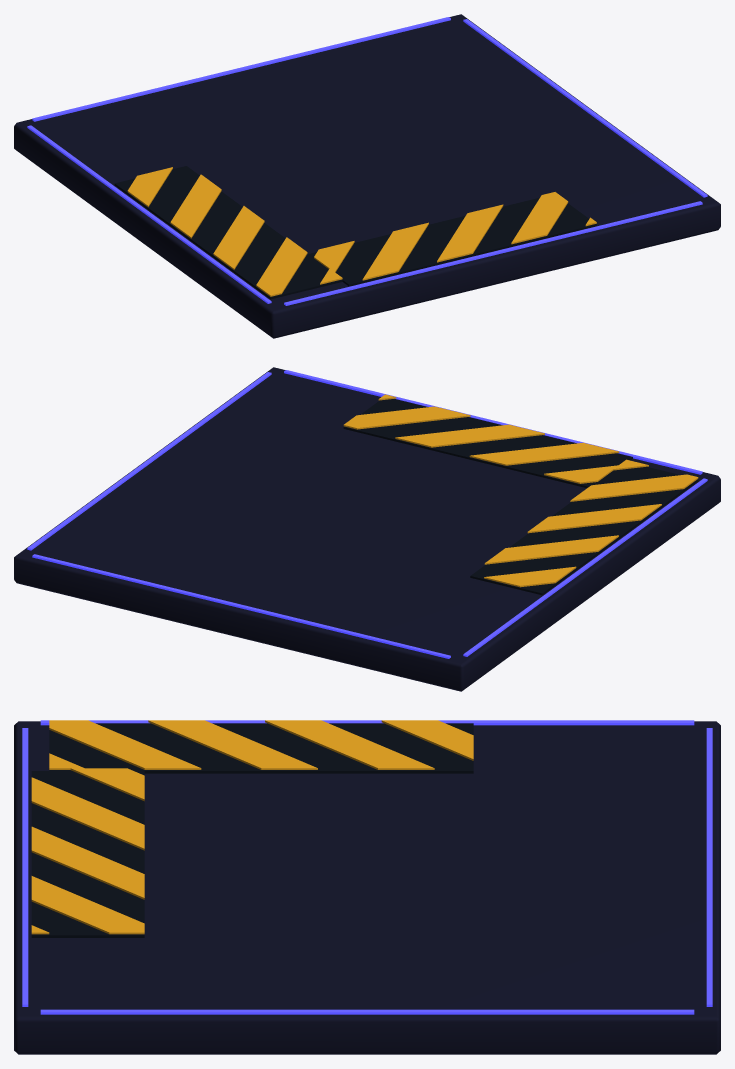
File: NT_Floor_CornerHazard.fbx
3 renders of one model, top to bottom at view 1: azimuth 30°, elevation 25°; view 2: azimuth 150°, elevation 25°; view 3: azimuth 270°, elevation 25°, orthographic. The views are drawn at different scales.
Parts seen in each view (by area): view 1: NT_Floor_CornerHazard__FloorMesh; view 2: NT_Floor_CornerHazard__FloorMesh; view 3: NT_Floor_CornerHazard__FloorMesh.
Boxes of the visible parts, x1,y1,x2,y2 form: NT_Floor_CornerHazard__FloorMesh: (14,14,720,338); NT_Floor_CornerHazard__FloorMesh: (14,367,720,691); NT_Floor_CornerHazard__FloorMesh: (14,720,720,1054).
Size of the model in its own units: 2 by 0.14 by 2.
